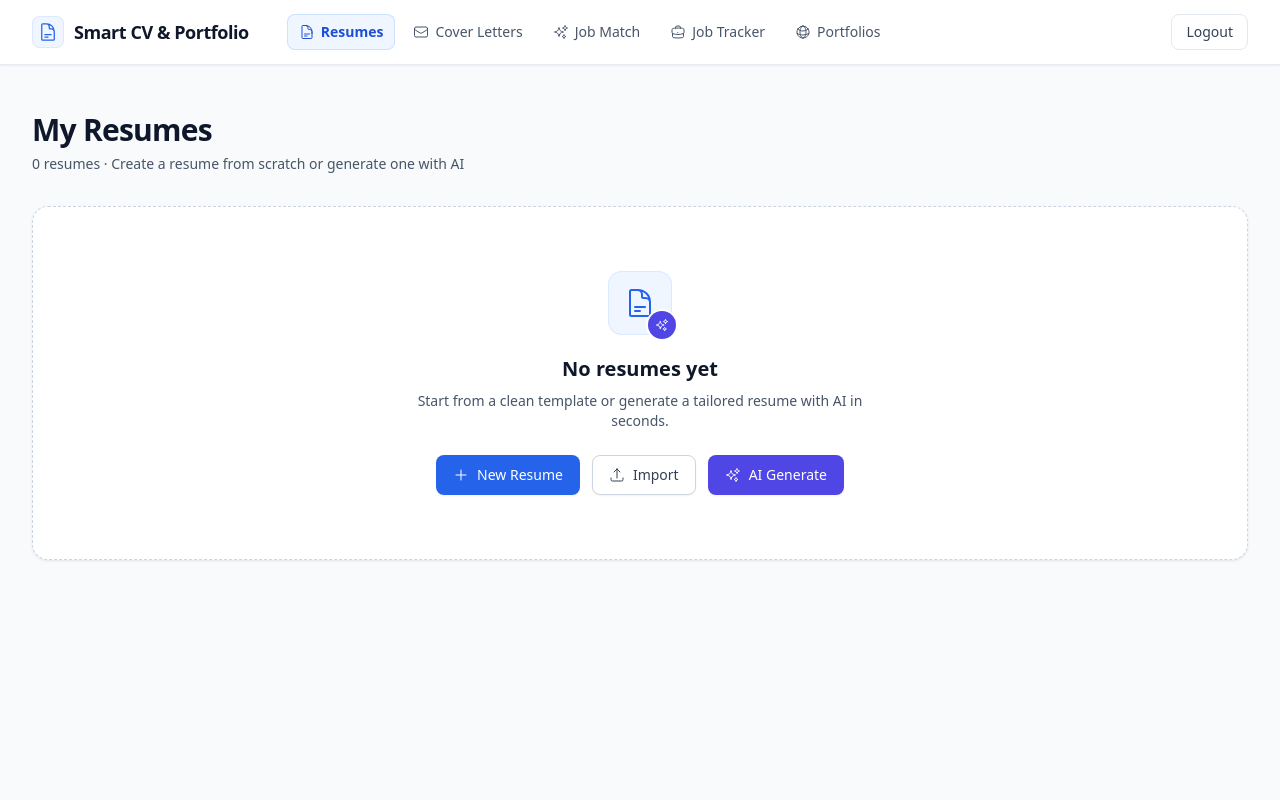
Test: Resume Import Modal & Editor Export JSON integration › shows Import button in empty state and opens modal with JSON Upload and Paste Text options (closes on Escape)
The width and height of the screenshot is (1280, 800).
Click the button with test id "import-resume-btn" at x=644, y=475, box 592,455 -> 696,495
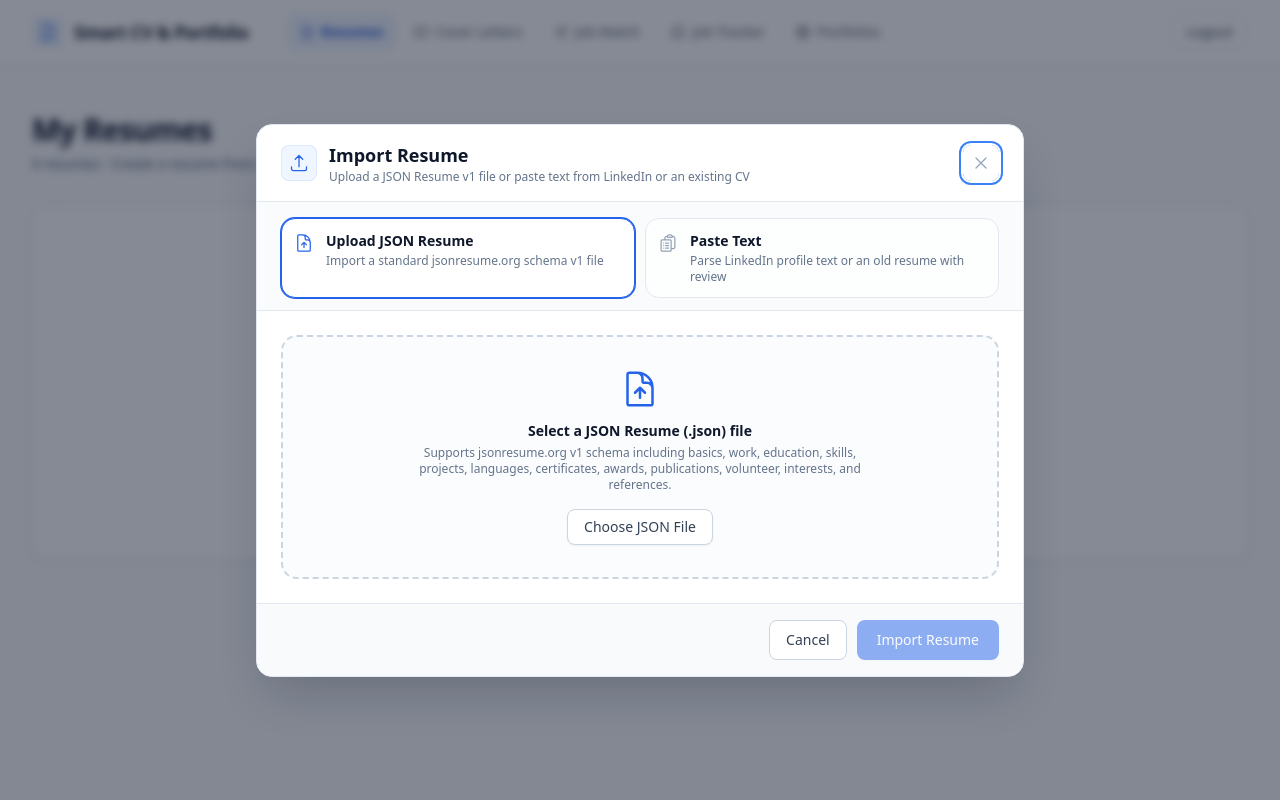
Check: the dialog "Import Resume" is shown, box 256,124 -> 1024,676
Press Escape
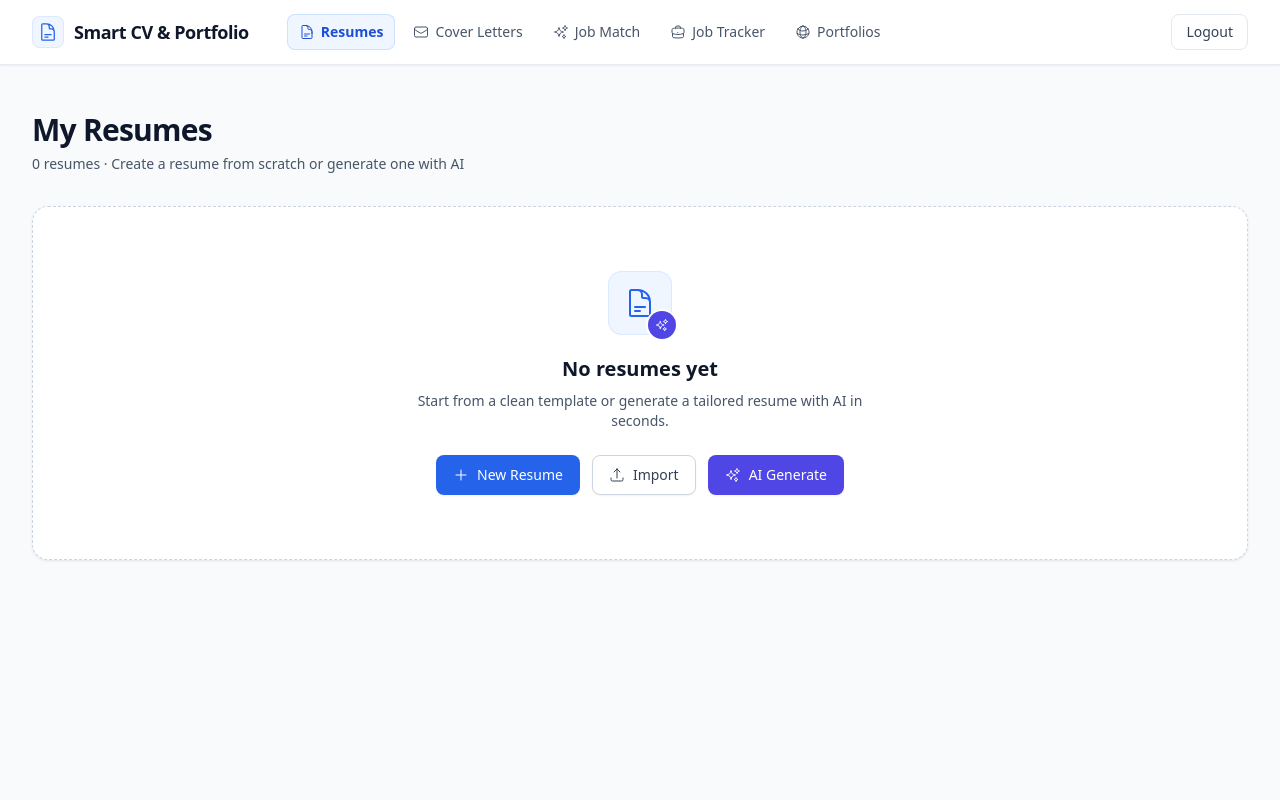
Check: the heading "Import Resume" is gone
